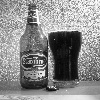beer: (49, 28, 87, 87)
